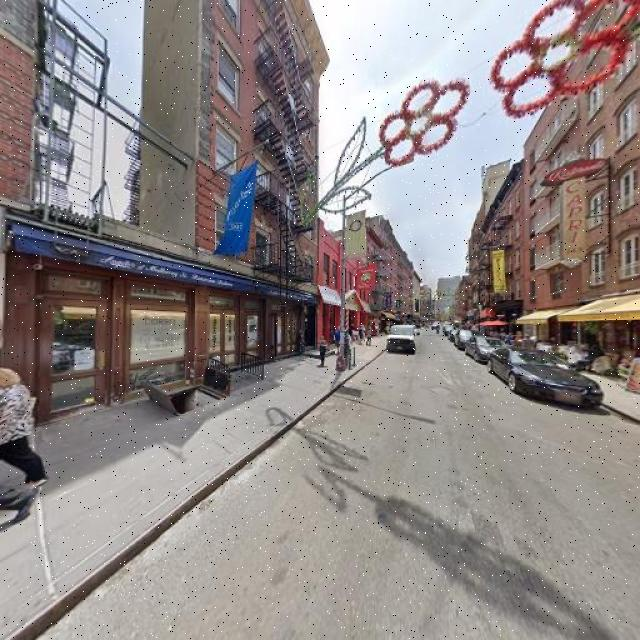Building: (40, 1, 319, 420), (585, 1, 640, 374), (1, 1, 33, 432)
